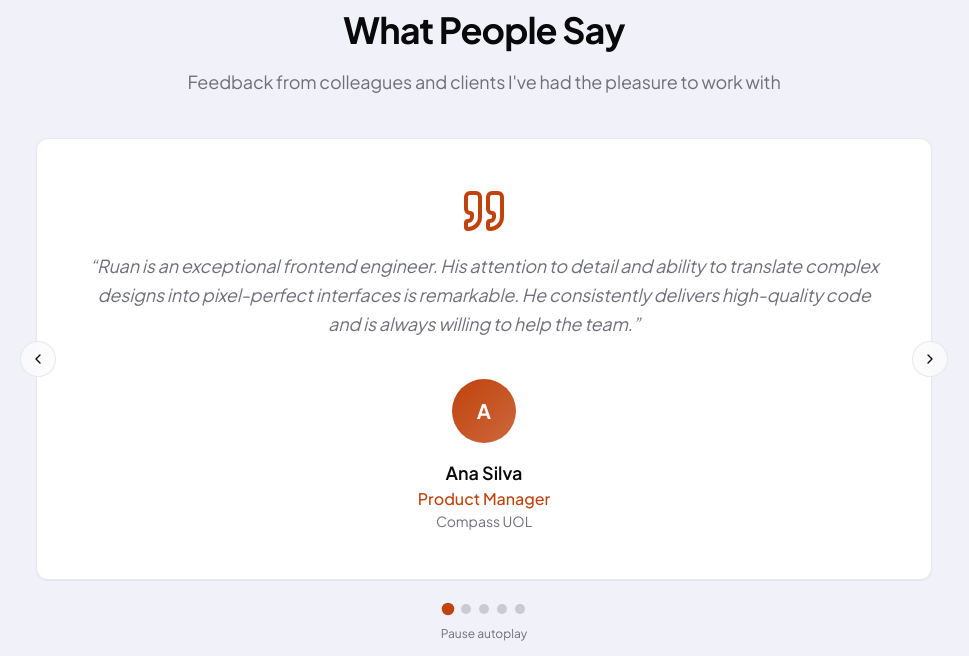
Test: TestimonialsSection › navigates with the next and previous buttons
Click the button named "Next testimonial" at (930, 359), box [912,341,948,377]
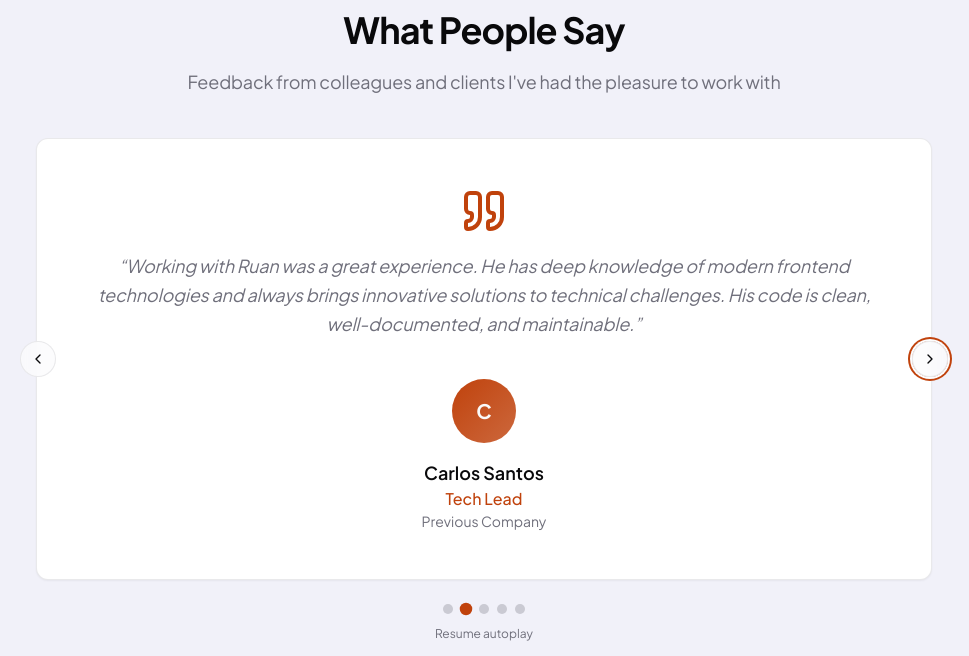
Result: the heading "Carlos Santos" is shown at [424,458,544,486]
Click the button named "Previous testimonial" at (38, 359), box [20,341,56,377]
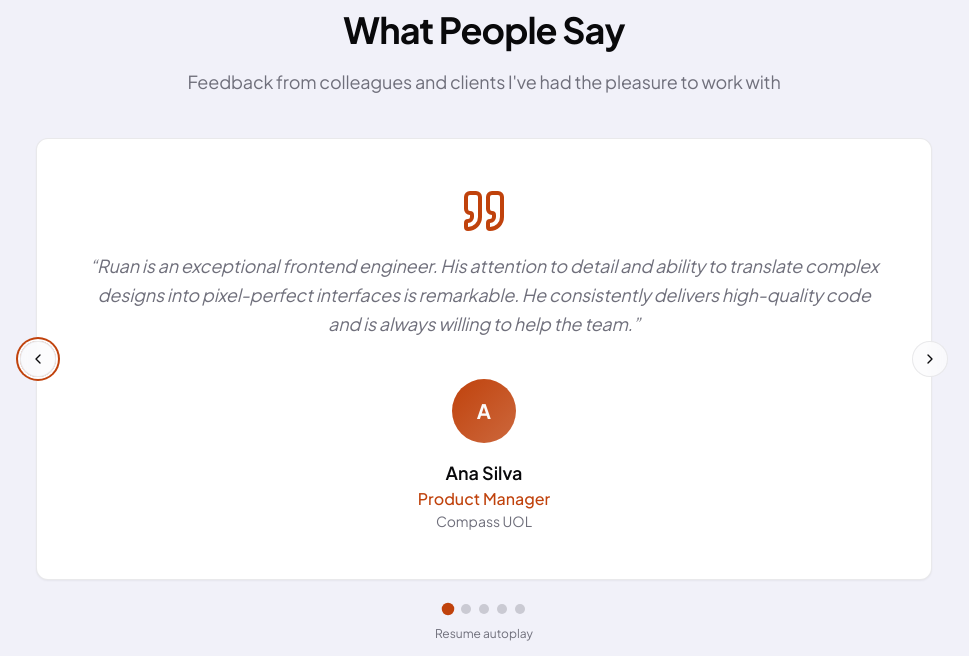
Result: the heading "Ana Silva" is shown at [446,458,522,486]
